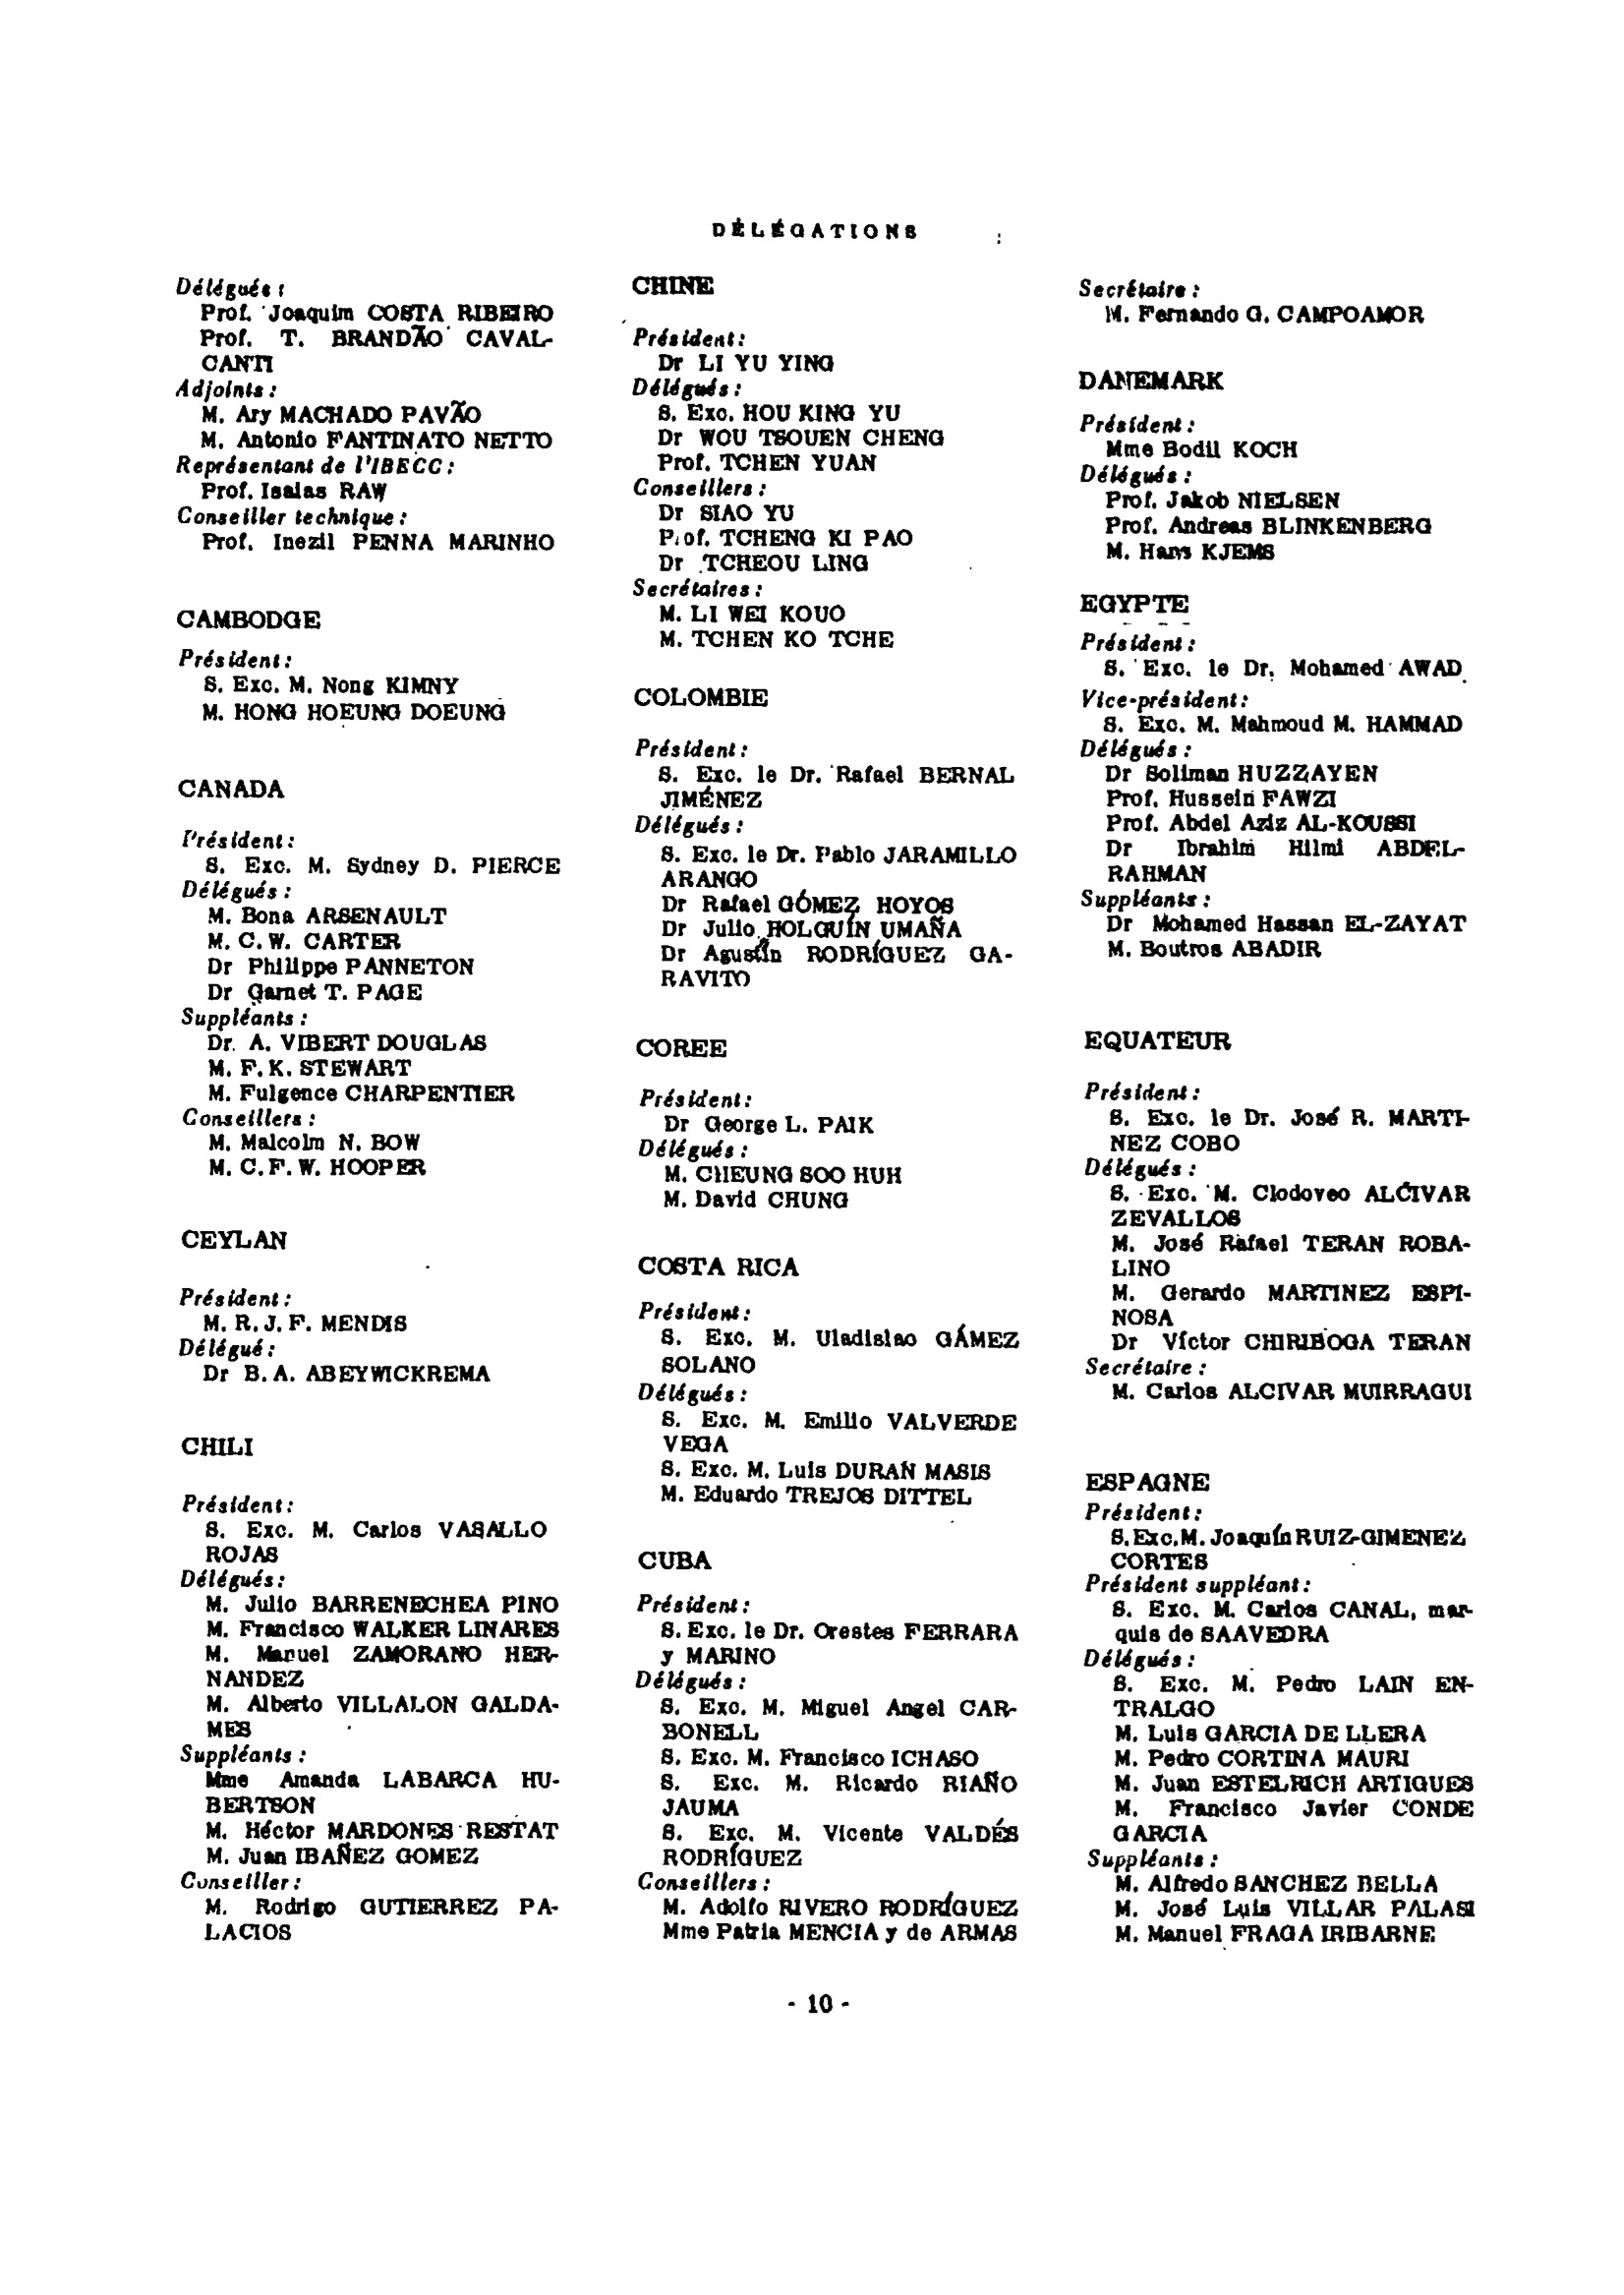MainZone-Continued: (1062, 268, 1429, 330)
MainZone-Entry: (168, 1425, 560, 1950), (1072, 1460, 1485, 1958), (164, 768, 567, 1186), (1067, 1015, 1484, 1412), (626, 1537, 1028, 1949), (1052, 580, 1479, 966), (617, 261, 954, 658), (145, 256, 564, 567), (617, 678, 1019, 995), (624, 1241, 1029, 1514), (1060, 359, 1439, 569), (164, 1218, 496, 1397), (624, 1028, 914, 1218), (152, 598, 516, 729)
MainZone-Head: (696, 208, 928, 251)
NumberingZone: (779, 1987, 859, 2024)
